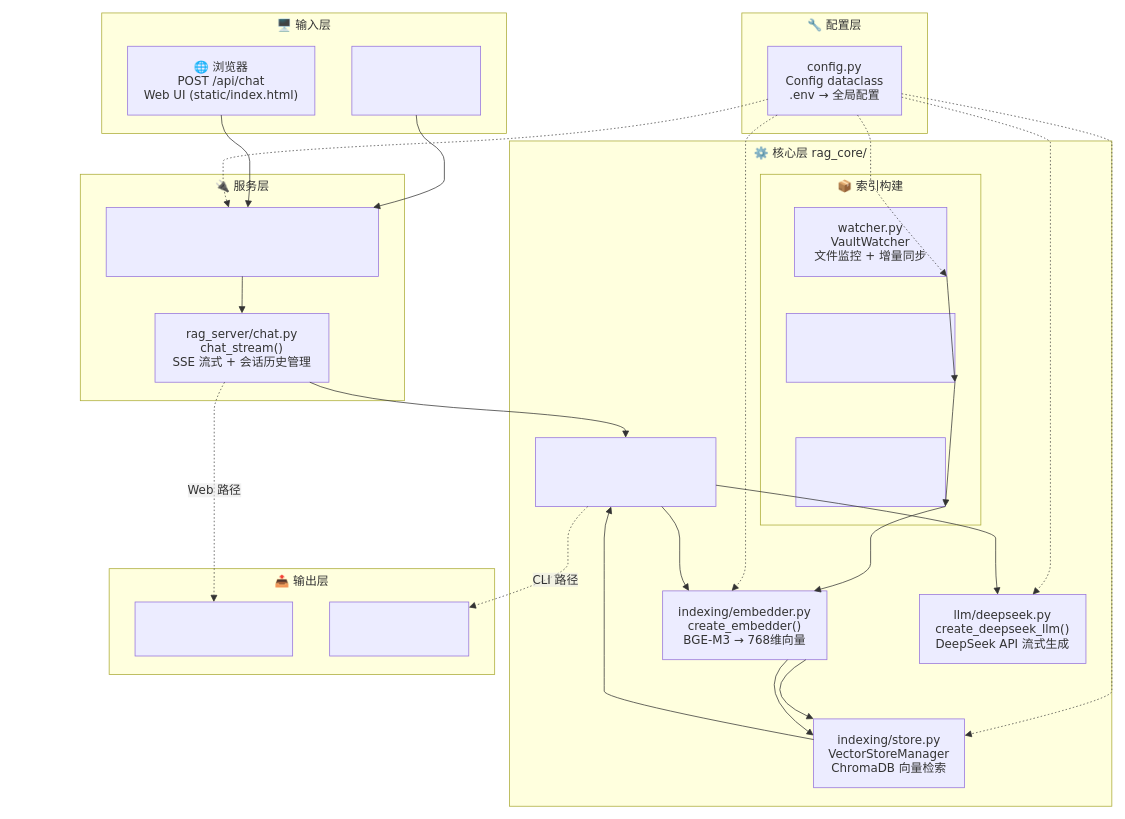
The diagram is 1125 pixels wide and 819 high, and some of its shapes have lost their labels. Here are the shapes that lost their labels. From the top down, the centre of each, then its label:
At (x=416, y=80): "💻 CLI 终端 rag ask '问题' rag_cli/main.py".
At (x=242, y=241): "rag_server/app.py FastAPI create_app() 路由: /api/chat, /api/status, /api/reindex".
At (x=870, y=347): "indexing/loader.py ObsidianLoader 解析 .md + frontmatter".
At (x=625, y=472): "retrieval/pipeline.py RAGPipeline .ask() / .ask_with_filter()".
At (x=870, y=472): "indexing/splitter.py Parent-Child 分块 ## 标题切分".
At (x=213, y=628): "浏览器 SSE 流式 EventSourceResponse".
At (x=399, y=628): "终端逐字输出 sys.stdout.write()".
